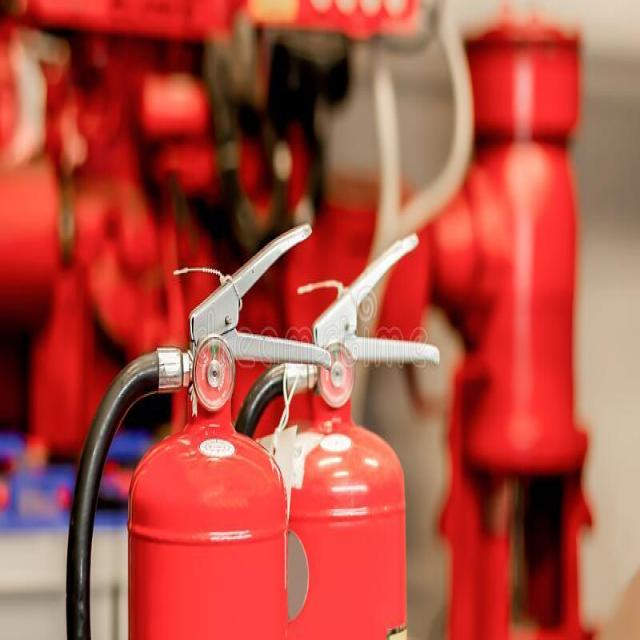fire_extinguisher: (61, 217, 335, 638), (214, 227, 443, 638)
